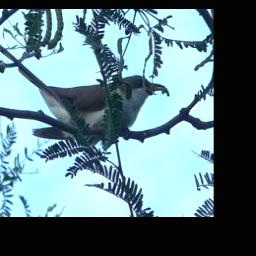Cuckoo: (0, 39, 168, 153)
